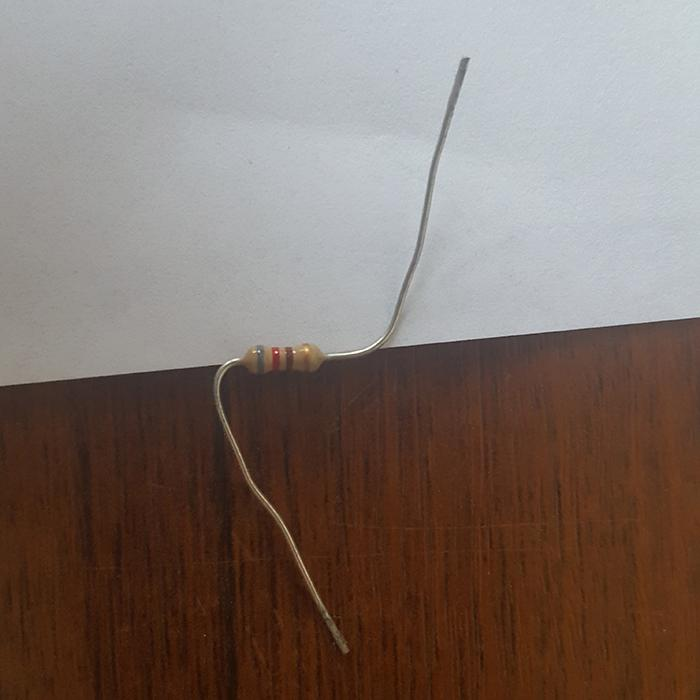resistor: (239, 342, 325, 375)
